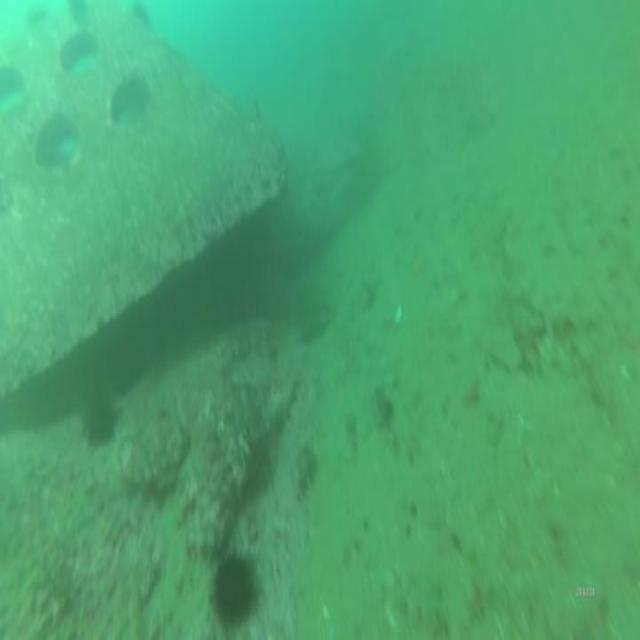echinus: (208, 539, 260, 630)
holothurian: (296, 428, 319, 509)
starfish: (82, 392, 121, 449)
